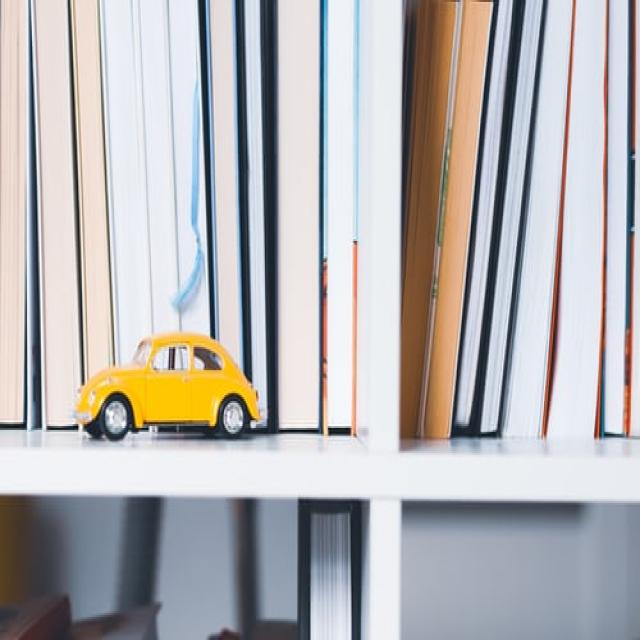Car: (76, 332, 260, 440)
